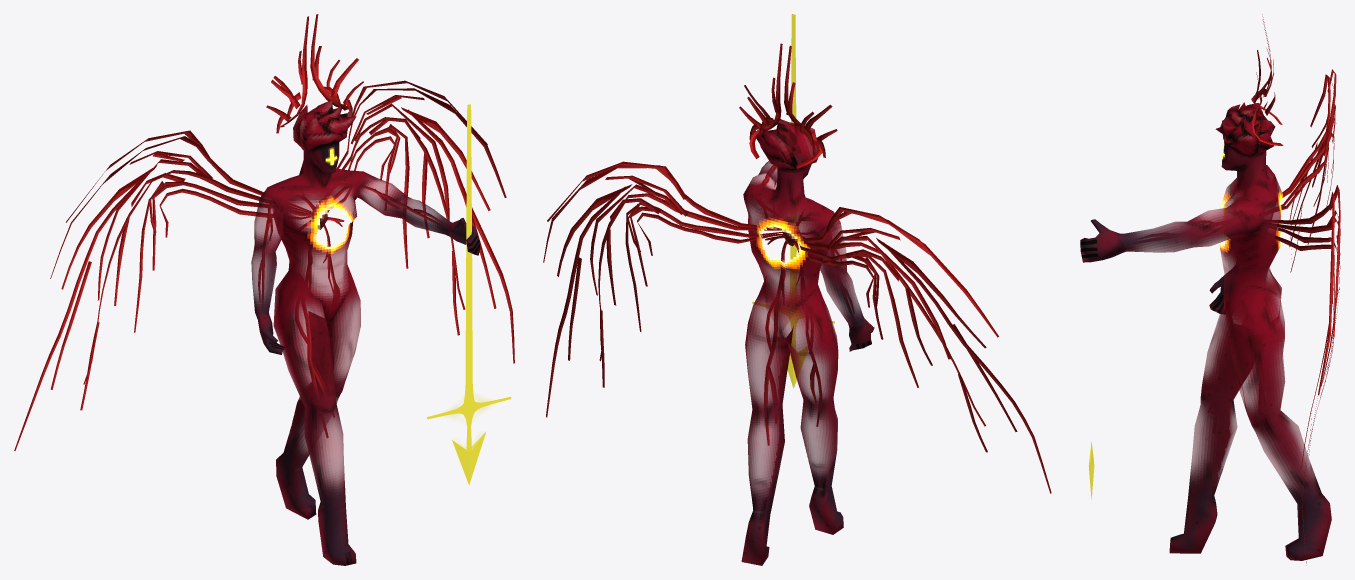
Rendered from luciferprime.gltf.
The picture shows the model from 3 angles, left to right: view 1: azimuth 30°, elevation 25°; view 2: azimuth 150°, elevation 25°; view 3: azimuth 270°, elevation 25°; orthographic projection. The views are drawn at different scales.
Visible parts, largest first — view 1: LuciferPrime_Weapon.001, LuciferPrime_Weapon.002; view 2: LuciferPrime_Weapon.001, LuciferPrime_Weapon.002; view 3: LuciferPrime_Weapon.001.
Part boxes in pixels (box(x1,y1,x2,y2)): LuciferPrime_Weapon.001: box(14, 14, 514, 565); LuciferPrime_Weapon.002: box(427, 104, 511, 485); LuciferPrime_Weapon.001: box(543, 43, 1051, 565); LuciferPrime_Weapon.002: box(752, 14, 834, 388); LuciferPrime_Weapon.001: box(1080, 14, 1340, 565).
Size of the model in its own units: 1.61 by 1.56 by 0.6865.
4 materials, 4 textured.
